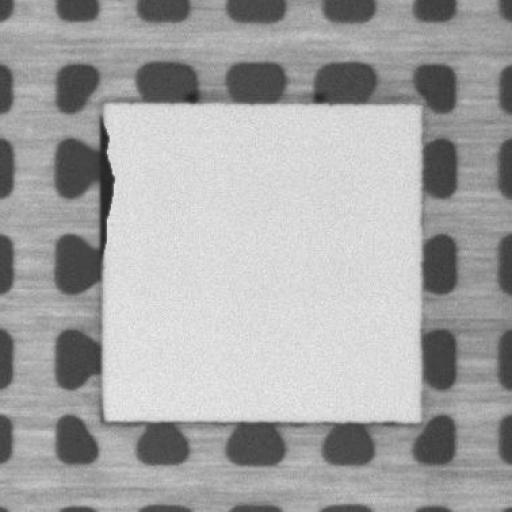DIE_BROKEN: (95, 110, 116, 264)
